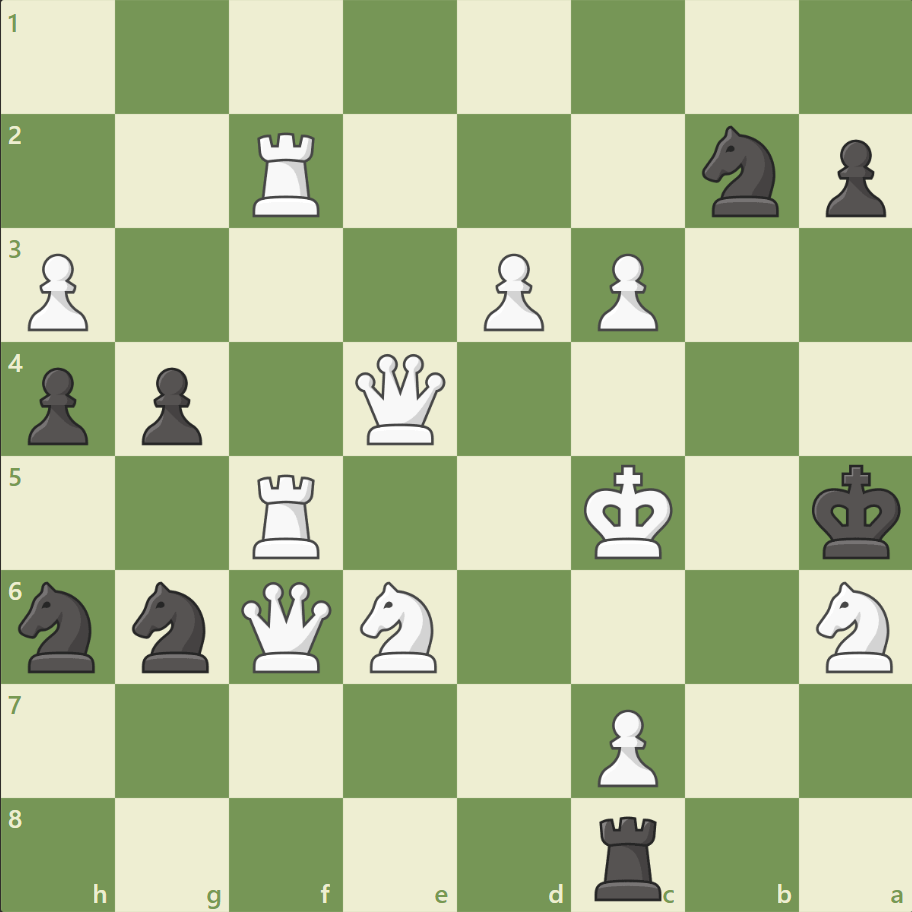K: (579, 458, 679, 566)
N: (351, 575, 449, 677), (806, 575, 903, 677)
P: (474, 246, 549, 337), (20, 246, 95, 337), (588, 700, 662, 791), (588, 246, 662, 337)
Q: (237, 576, 336, 676), (351, 349, 450, 449)
R: (246, 466, 329, 563), (246, 125, 329, 222)
k: (806, 458, 906, 566)
n: (124, 575, 222, 677), (11, 575, 108, 677), (692, 121, 789, 223)
p: (133, 359, 208, 450), (20, 359, 95, 450), (815, 132, 889, 223)
r: (587, 806, 670, 904)
